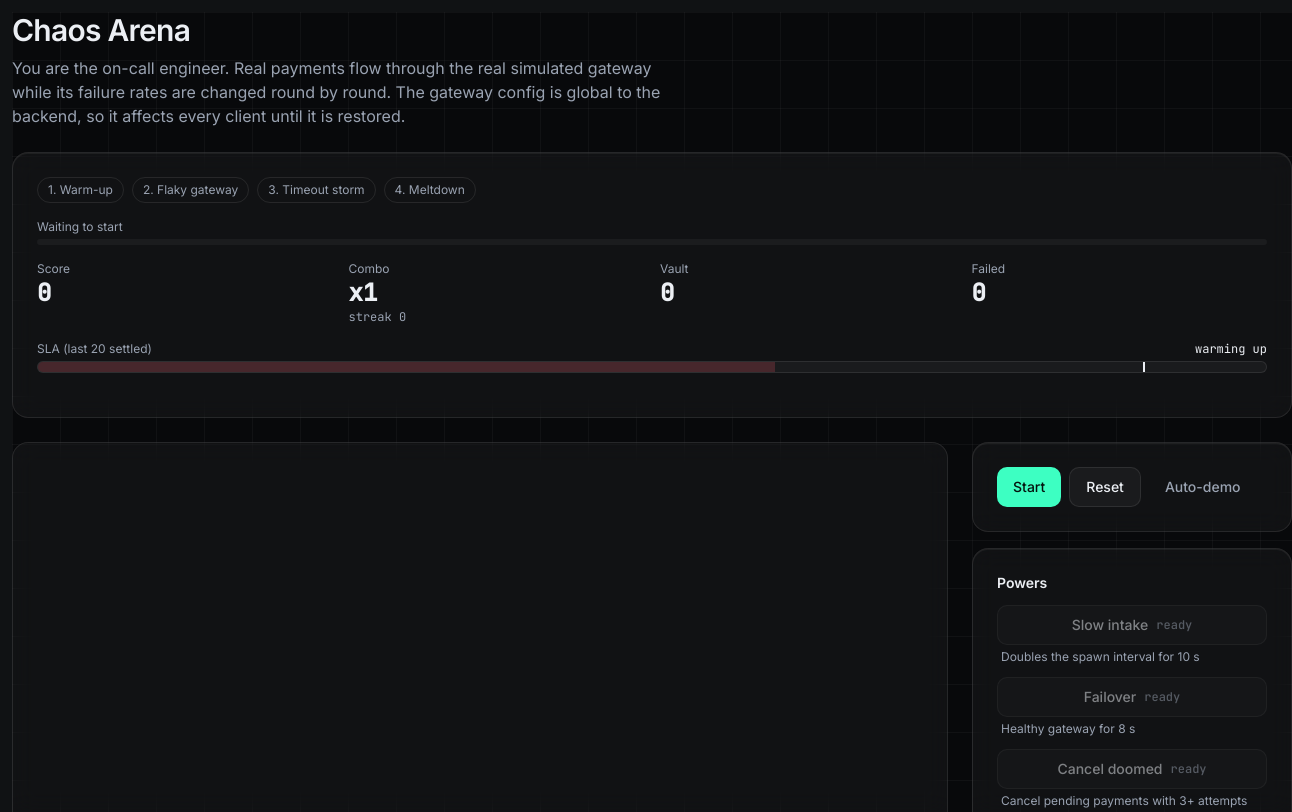
Scenario: Arena gateway guard › shows the chaos banner while a run is active and restores on reset
What coordinates should you click on to do the following:
click the button "Start"
I would click on:
 (1029, 487)
Its box is [997,467,1061,507].
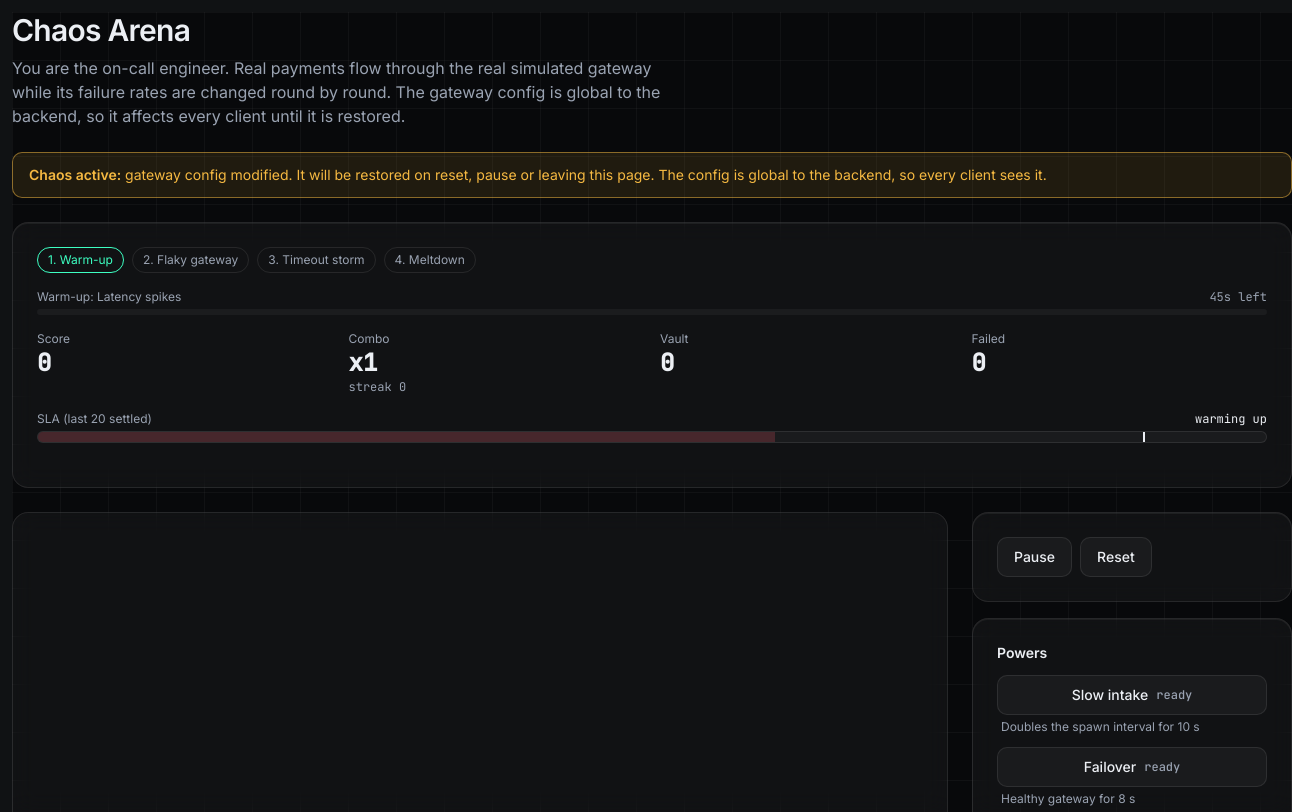
Now the text "Chaos active:" is shown, box [29,166,121,183]
What coordinates should you click on to do the following:
click the button "Reset"
I would click on:
 (1116, 557)
Its box is [1080,537,1152,577].
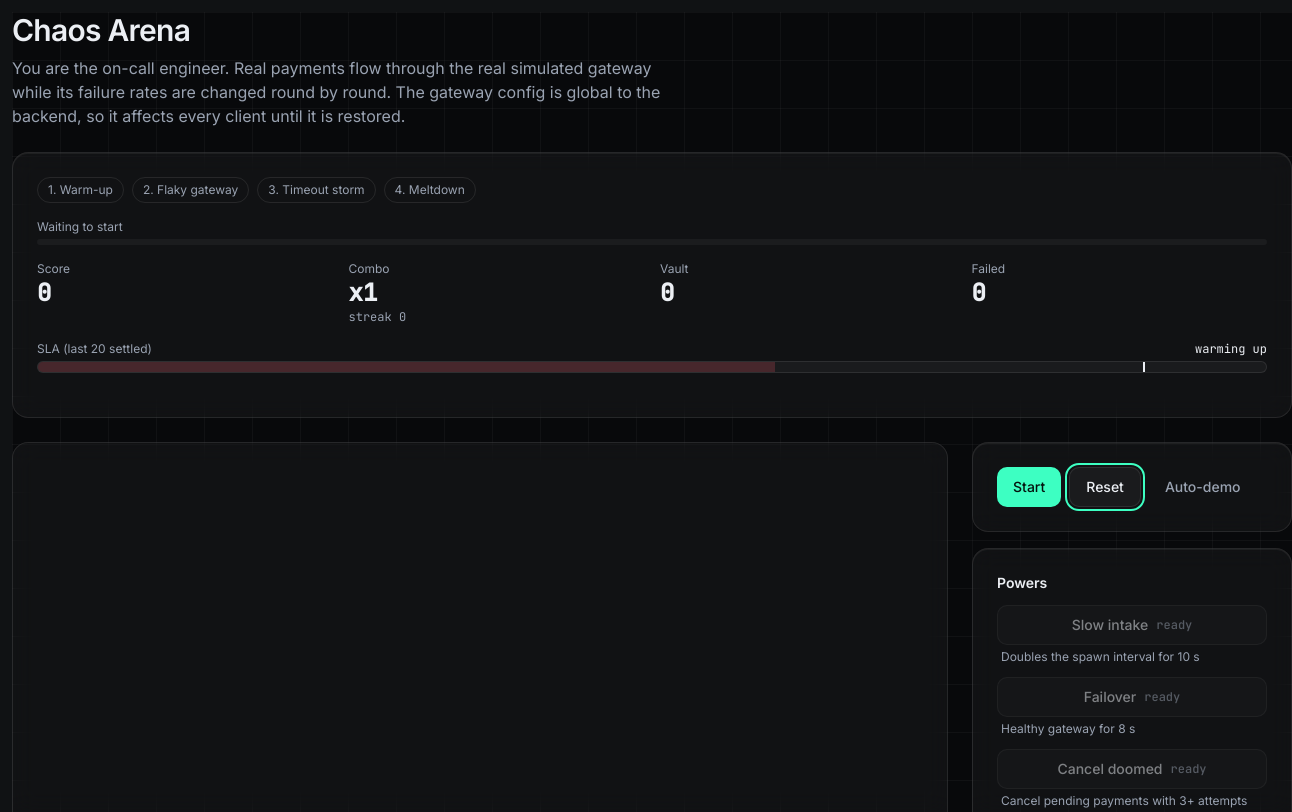
Now the text "Chaos active" is gone
